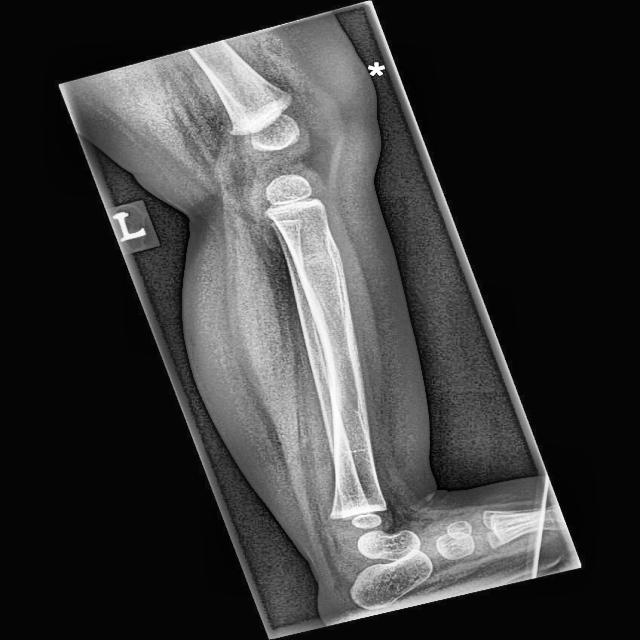line: (323, 224, 349, 322), (356, 397, 369, 437), (342, 448, 364, 458)
